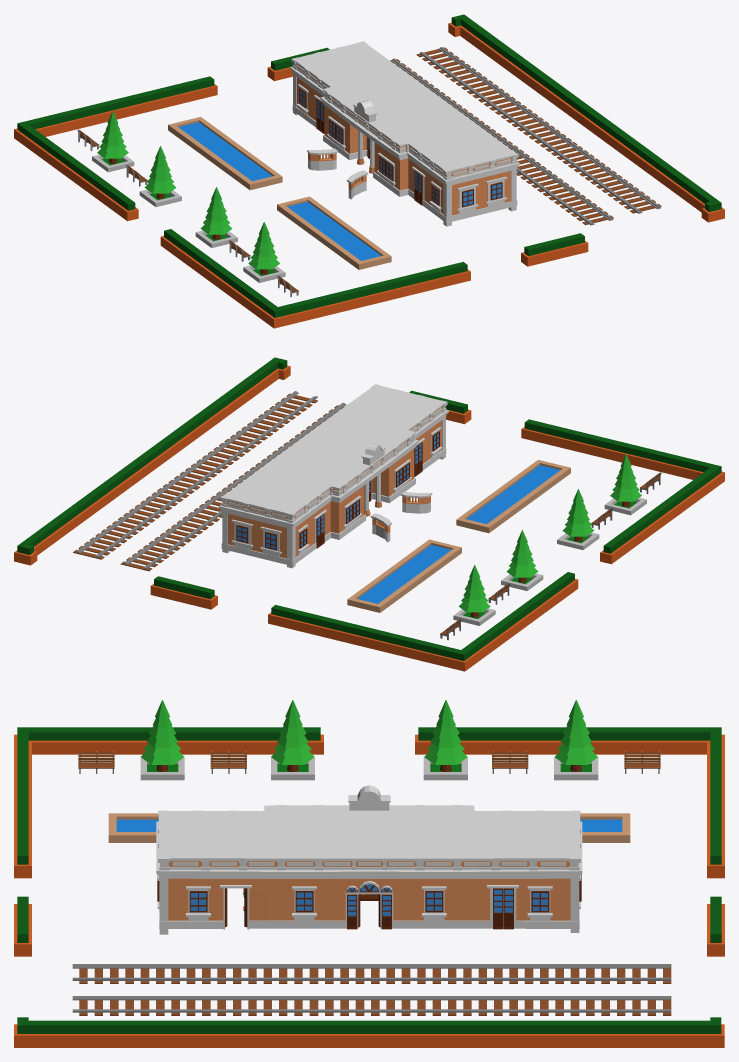
Rendered from Cajica01.glb.
3 renders of one model, top to bottom at view 1: azimuth 30°, elevation 25°; view 2: azimuth 150°, elevation 25°; view 3: azimuth 270°, elevation 25°, orthographic. The views are drawn at different scales.
Visible parts, largest first — view 1: Cube.274, Cube.255, Cube.081, Cube.090, Cube.112, Plane.002, Cube.111, Cube.272, Cube.114, Cube.113, Cube.072; view 2: Cube.274, Cube.255, Cube.081, Cube.090, Cube.112, Plane.002, Cube.111, Cube.272, Cube.114, Cube.113, Cube.072; view 3: Cube.274, Cube.081, Cube.255, Cube.111, Cube.113, Cube.112, Cube.114, Cube.272, Cube.090, Plane.002, Cube.078, Cube.069 (+14 smaller).
Boxes of the visible parts, bbox=[...] form: Cube.274: bbox=[290, 41, 519, 222]; Cube.255: bbox=[14, 76, 470, 328]; Cube.081: bbox=[448, 14, 724, 222]; Cube.090: bbox=[168, 117, 391, 269]; Cube.112: bbox=[416, 47, 661, 213]; Plane.002: bbox=[178, 122, 381, 260]; Cube.111: bbox=[420, 47, 660, 213]; Cube.272: bbox=[267, 47, 588, 266]; Cube.114: bbox=[390, 59, 613, 225]; Cube.113: bbox=[390, 58, 613, 225]; Cube.072: bbox=[307, 148, 368, 199]; Cube.274: bbox=[219, 384, 448, 565]; Cube.255: bbox=[268, 419, 724, 671]; Cube.081: bbox=[14, 357, 290, 565]; Cube.090: bbox=[347, 459, 570, 612]; Cube.112: bbox=[73, 393, 317, 559]; Plane.002: bbox=[357, 465, 560, 603]; Cube.111: bbox=[76, 391, 317, 557]; Cube.272: bbox=[150, 390, 471, 609]; Cube.114: bbox=[120, 405, 343, 571]; Cube.113: bbox=[124, 402, 346, 569]; Cube.072: bbox=[370, 491, 432, 542]; Cube.274: bbox=[156, 805, 582, 928]; Cube.081: bbox=[14, 1017, 724, 1047]; Cube.255: bbox=[14, 727, 724, 878]; Cube.111: bbox=[72, 996, 670, 1012]; Cube.113: bbox=[72, 964, 670, 980]; Cube.112: bbox=[79, 996, 671, 1015]; Cube.114: bbox=[79, 964, 671, 983]; Cube.272: bbox=[14, 896, 724, 956]; Cube.090: bbox=[108, 813, 630, 842]; Plane.002: bbox=[116, 819, 622, 831]; Cube.078: bbox=[159, 878, 579, 934]; Cube.069: bbox=[348, 785, 390, 810].
Bounding box in the file's own units: 32.27 × 5.31 × 32.22.
